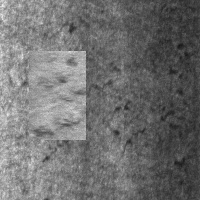crazing: (4, 54, 147, 161), (158, 24, 200, 173)
rolled-in_scale: (29, 51, 86, 140)
